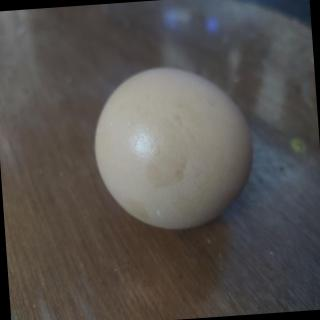Telur: (85, 58, 265, 239)
